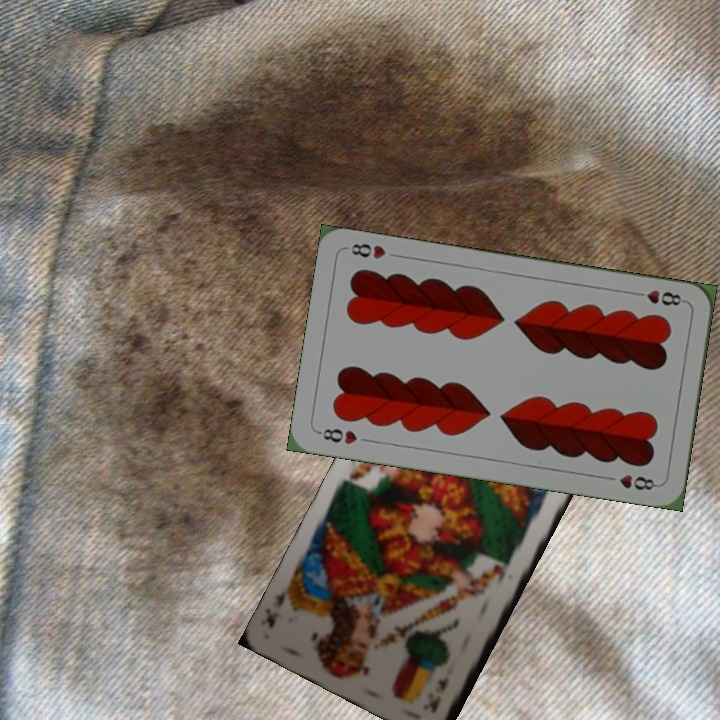EK: (422, 673, 452, 716)
H8: (629, 286, 688, 309), (314, 424, 360, 447)
